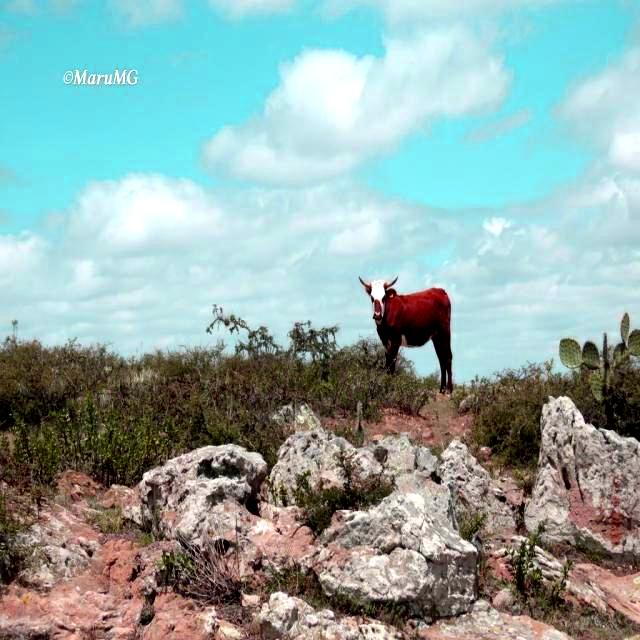COW: (359, 278, 451, 392)
